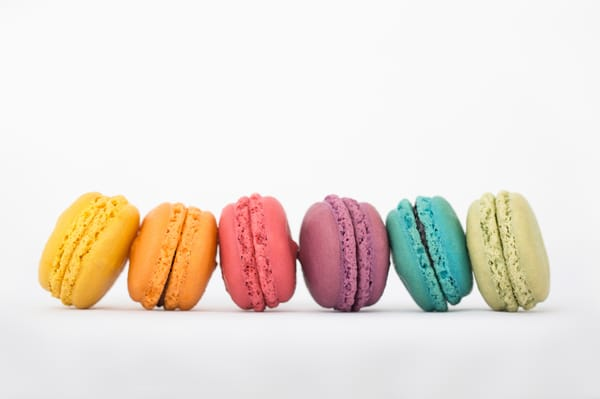pasta: (37, 191, 141, 309), (465, 190, 551, 313)
